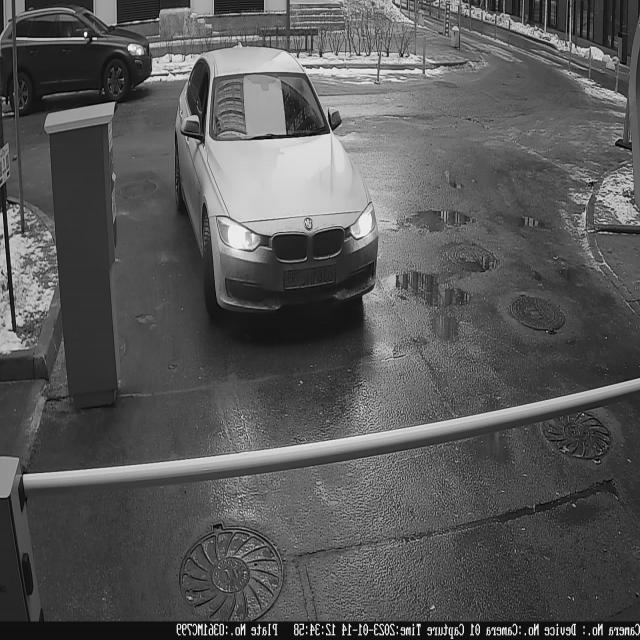car-plate-numbers: (282, 260, 339, 295)
